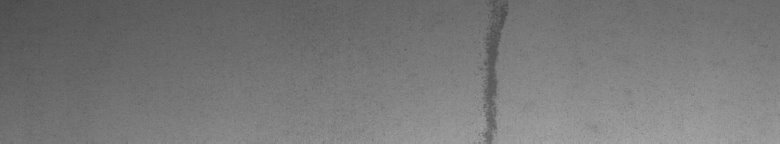hd: (475, 4, 512, 136)
